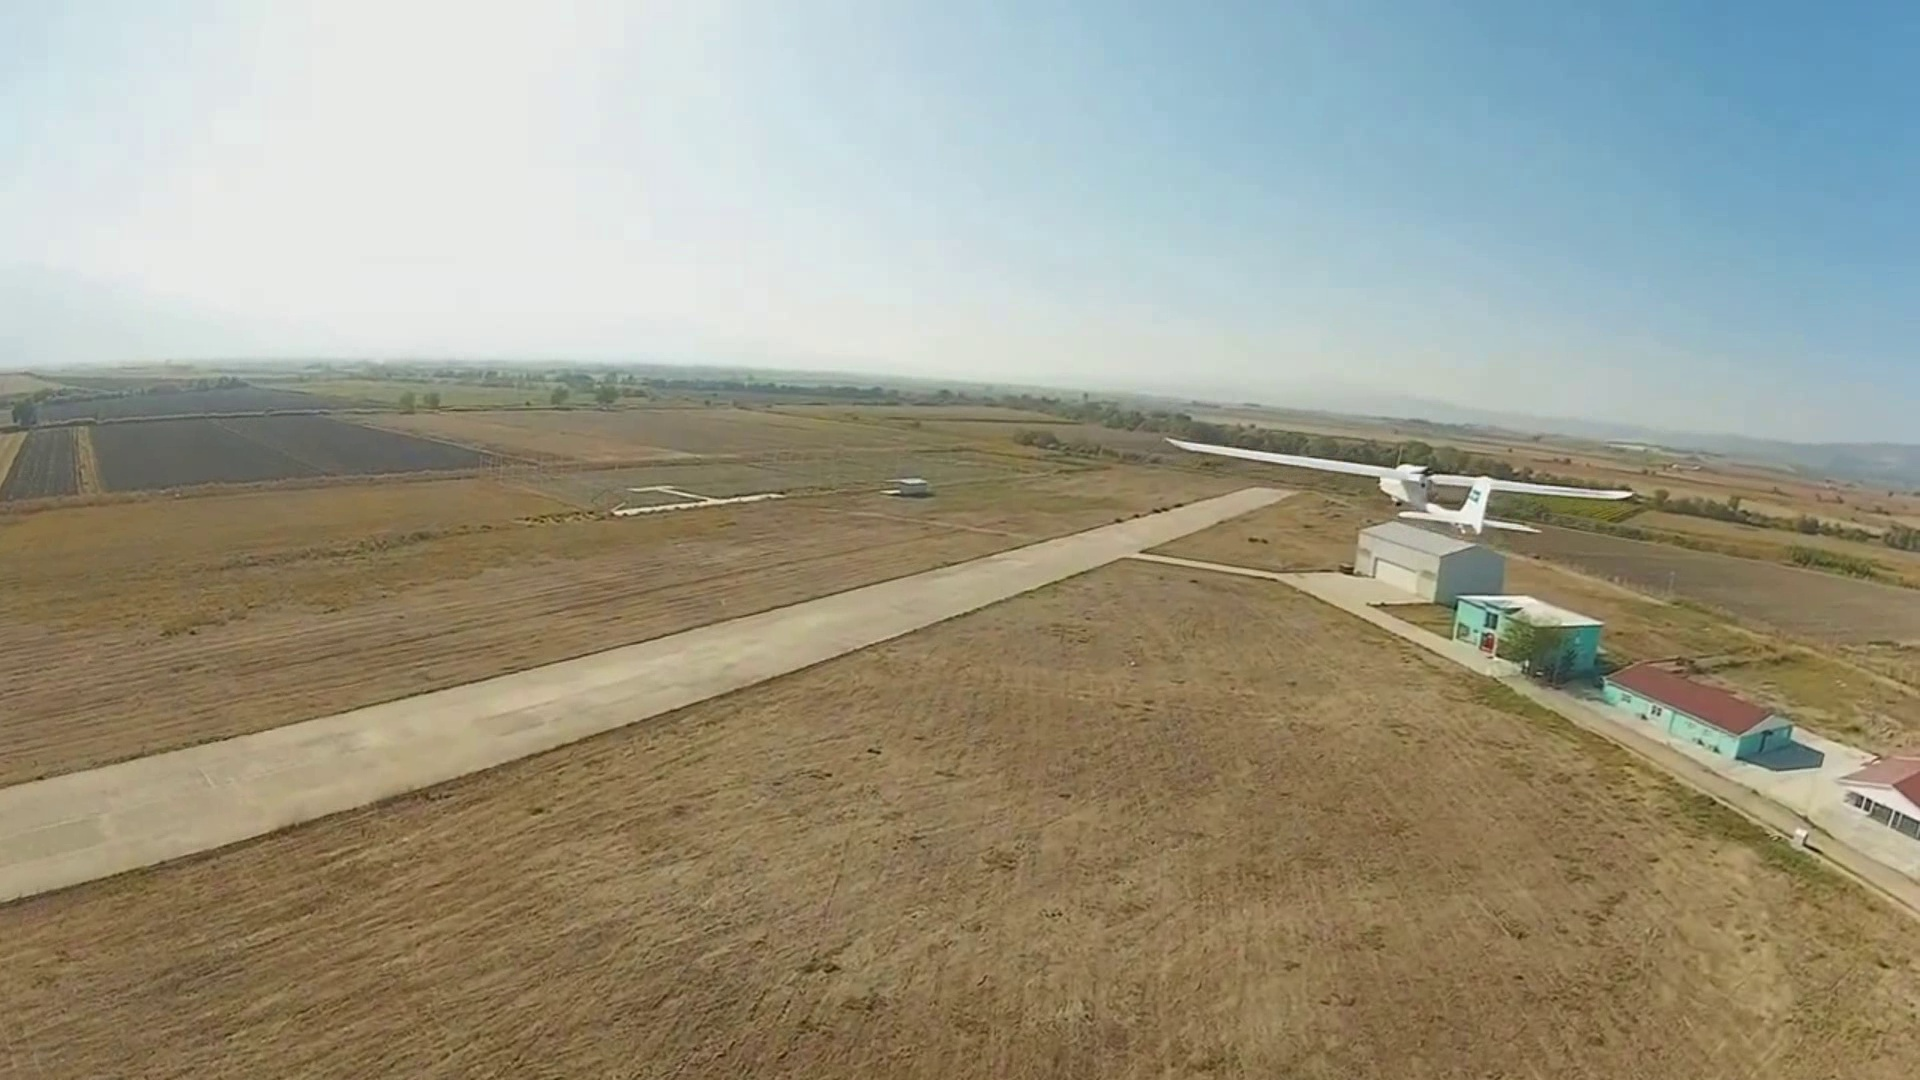airplane: (1154, 422, 1648, 531)
